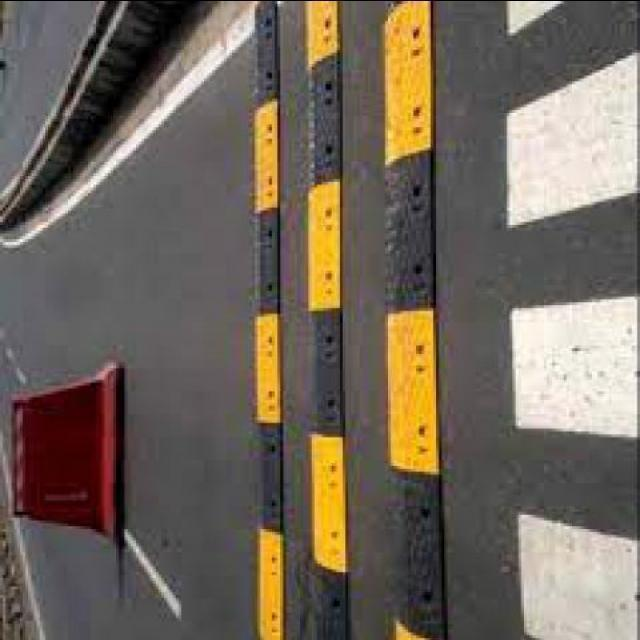speedbreaker: (368, 0, 466, 640), (236, 0, 295, 640), (298, 0, 352, 640)
